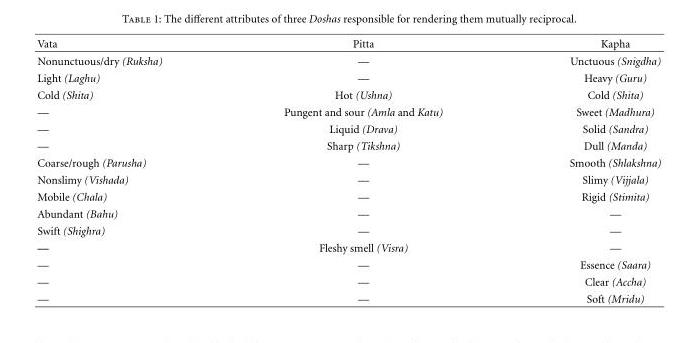table: (36, 37, 660, 304)
table column: (222, 37, 505, 304), (36, 37, 222, 304), (505, 37, 660, 304)
table column header: (36, 37, 660, 52)
table row: (36, 238, 660, 256), (36, 52, 660, 69), (36, 69, 660, 86), (36, 86, 660, 103), (36, 103, 660, 120), (36, 120, 660, 137), (36, 137, 660, 154), (36, 154, 660, 171), (36, 171, 660, 188), (36, 188, 660, 205), (36, 205, 660, 222), (36, 256, 660, 273), (36, 273, 660, 290), (36, 222, 660, 238), (36, 37, 660, 52), (36, 290, 660, 304)
